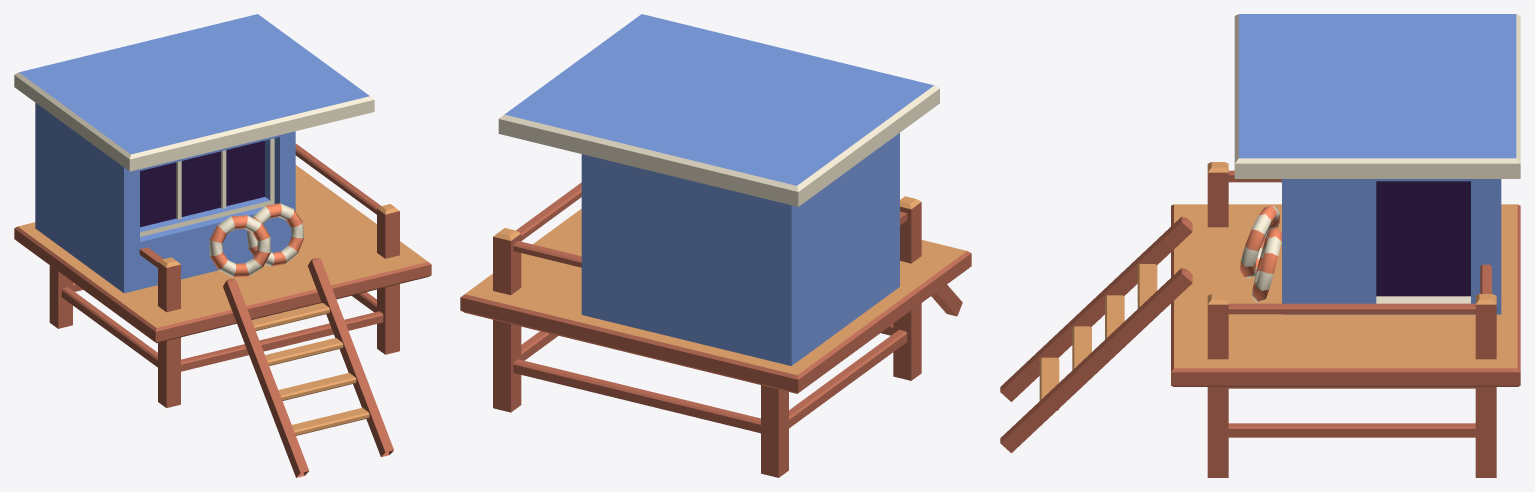
Rendered from M_Beachhut.fbx.
3 views of the same model, side by side, from view 1: azimuth 30°, elevation 25°; view 2: azimuth 150°, elevation 25°; view 3: azimuth 270°, elevation 25° (orthographic). The views are drawn at different scales.
Visible parts, largest first — view 1: M_Beachhut; view 2: M_Beachhut; view 3: M_Beachhut.
Boxes of the visible parts, x1,y1,x2,y2 form: M_Beachhut: (14, 14, 431, 477); M_Beachhut: (460, 14, 971, 477); M_Beachhut: (1000, 14, 1520, 477).
Size of the model in its own units: 0.9275 by 0.8794 by 1.22.
